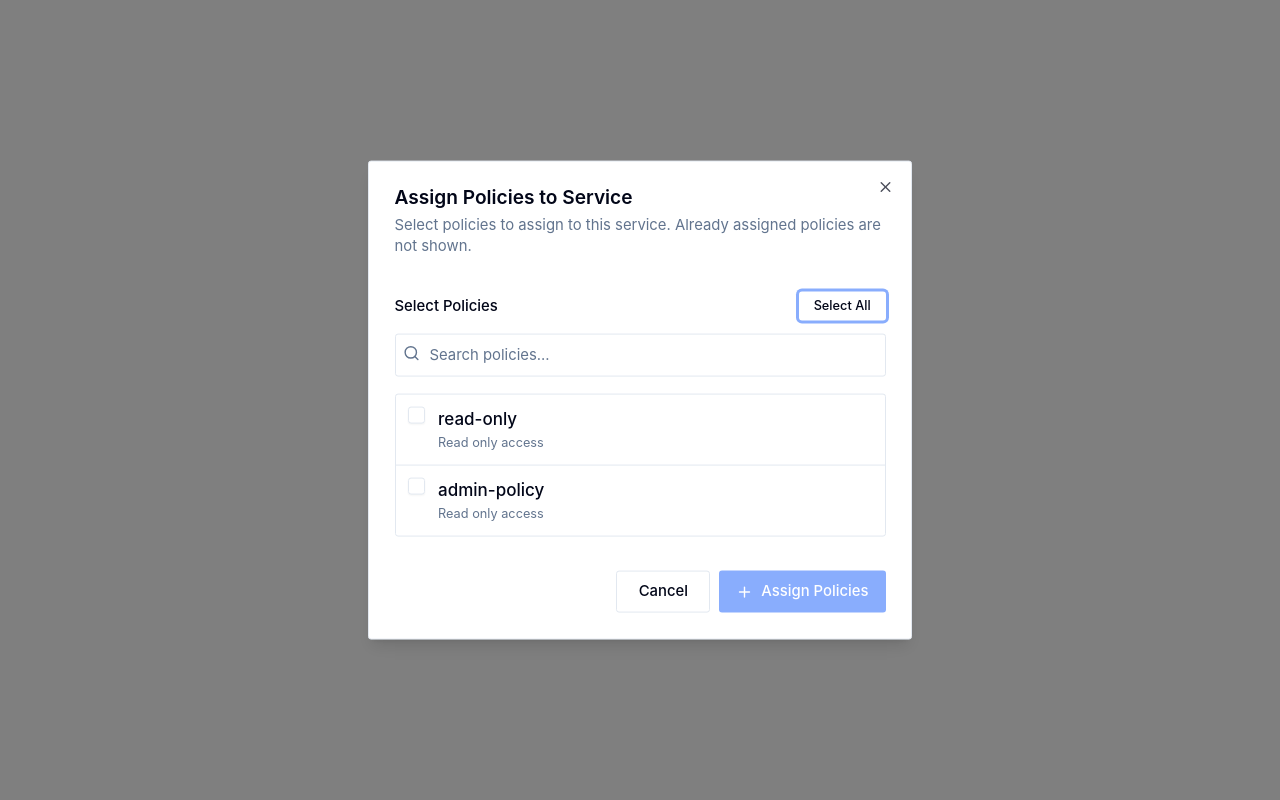
it: PolicyAssignDialog › toggles select-all and deselect-all
The width and height of the screenshot is (1280, 800).
Click the button "Select All" at (842, 306), box x1=799 y1=291 x2=886 y2=321
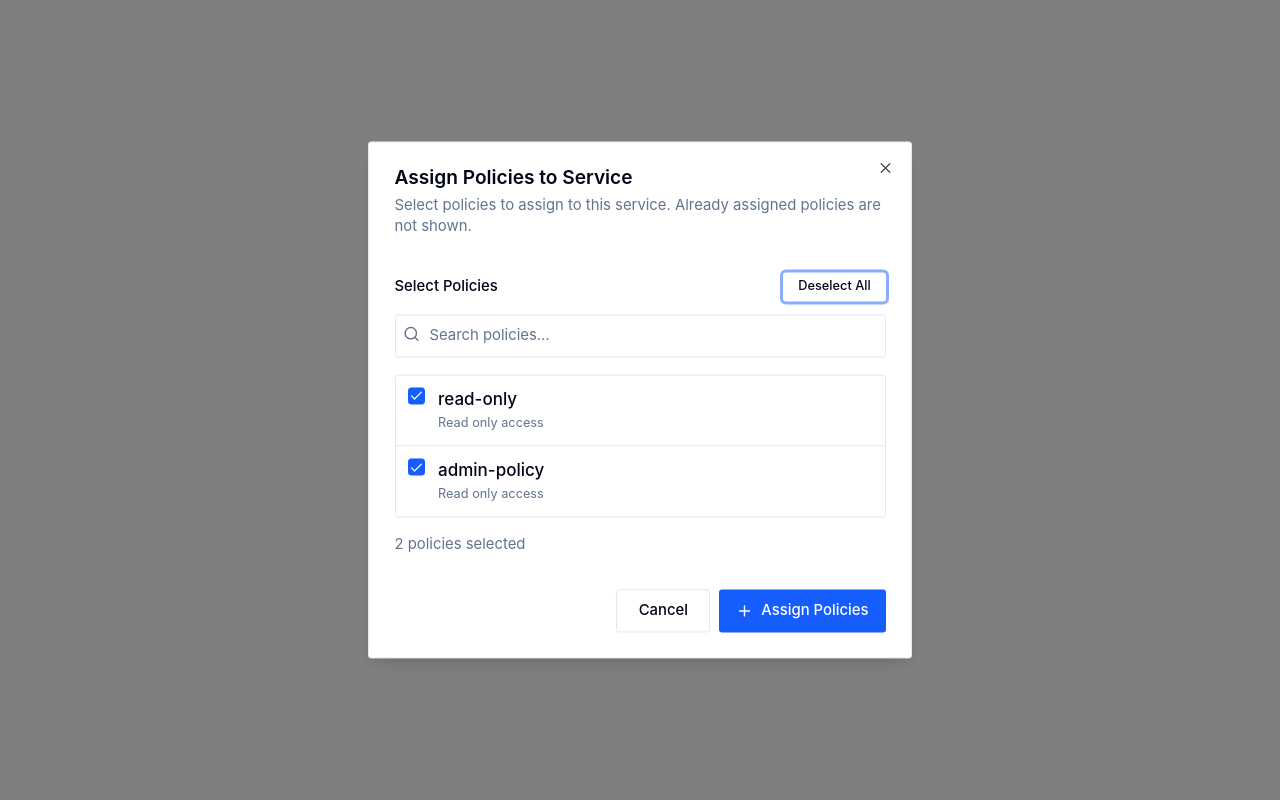
Result: the text "2 policies selected" is shown at x1=394 y1=535 x2=526 y2=553
Click the button "Deselect All" at (834, 287), box x1=783 y1=272 x2=886 y2=302
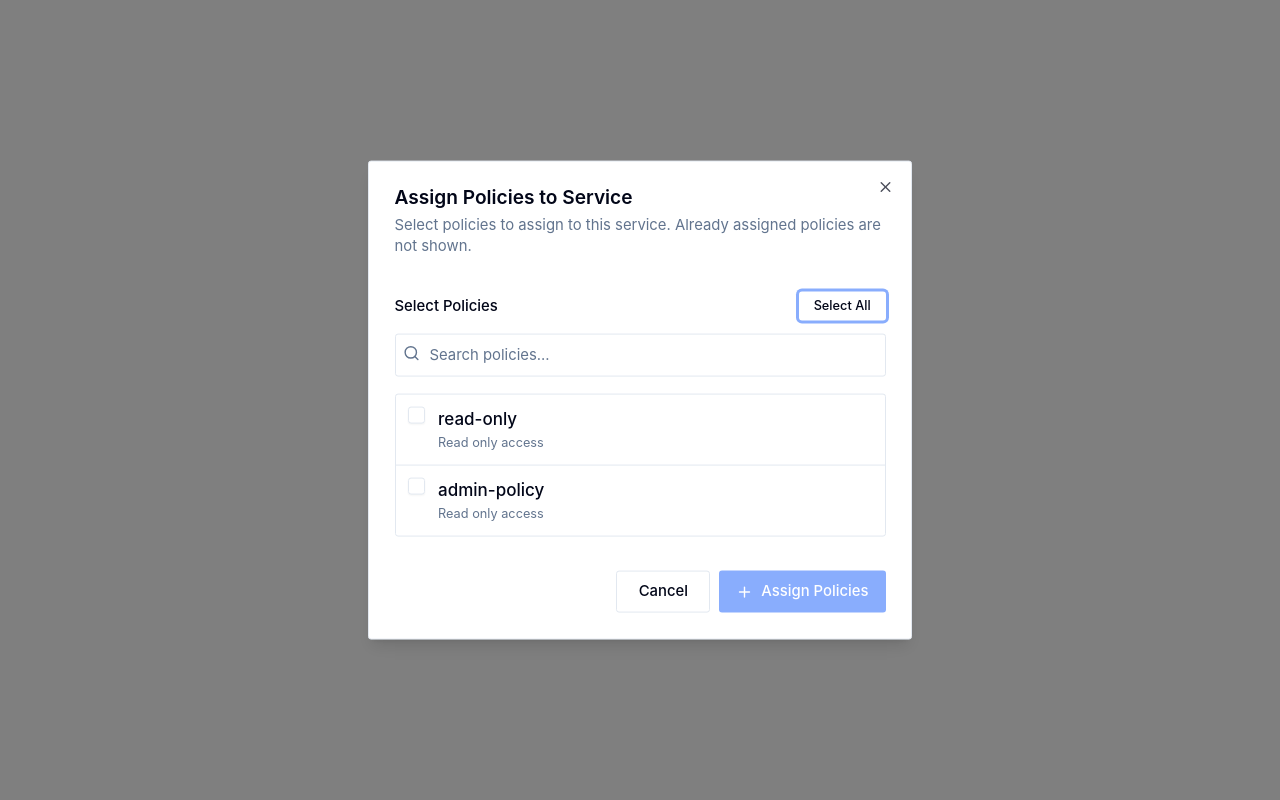
Result: the text "2 policies selected" is gone
